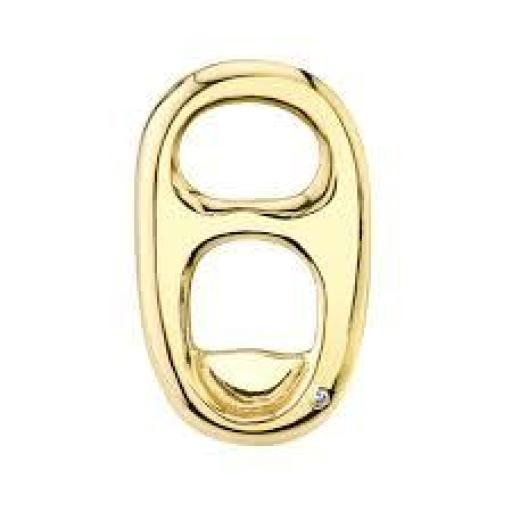pop tab: (136, 62, 370, 440)
